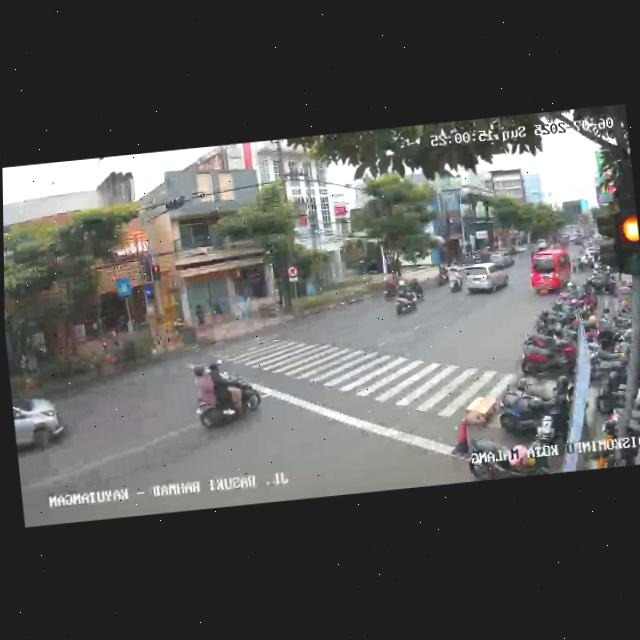car: (11, 390, 69, 460), (527, 245, 576, 297), (459, 260, 510, 300)
motorcycle: (189, 356, 264, 432), (391, 278, 418, 316), (445, 264, 462, 293)
